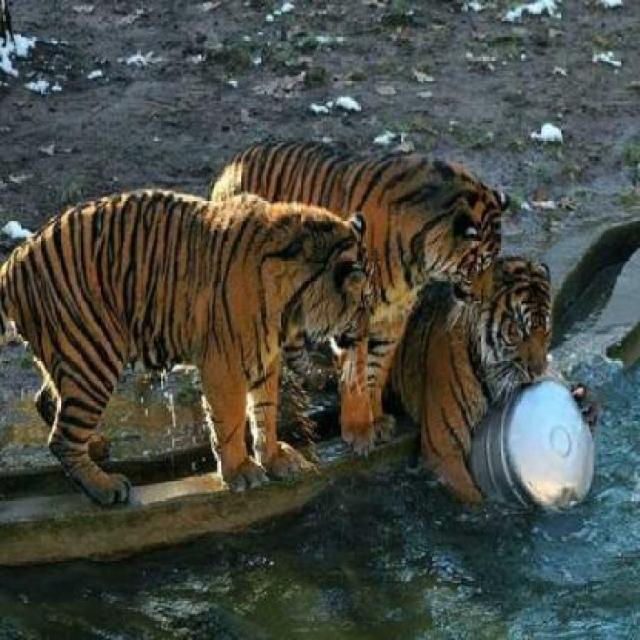Tiger: (0, 172, 385, 525), (198, 128, 512, 470), (394, 240, 608, 538)
